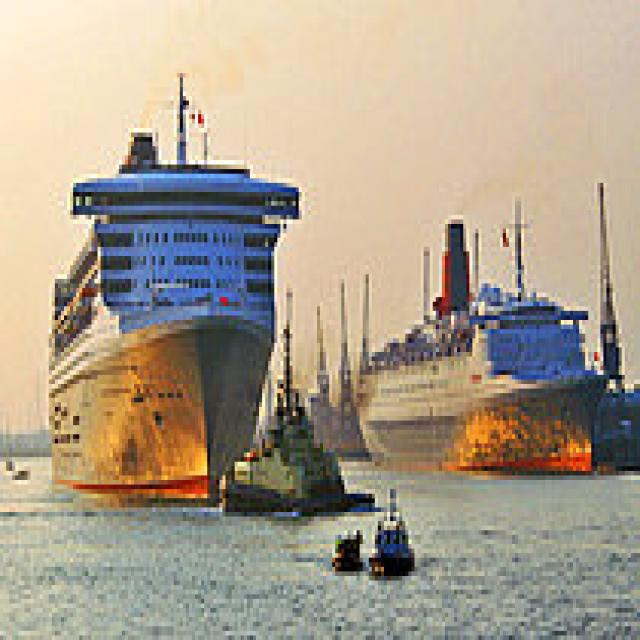Cruise: (40, 64, 302, 507), (350, 192, 606, 475)
